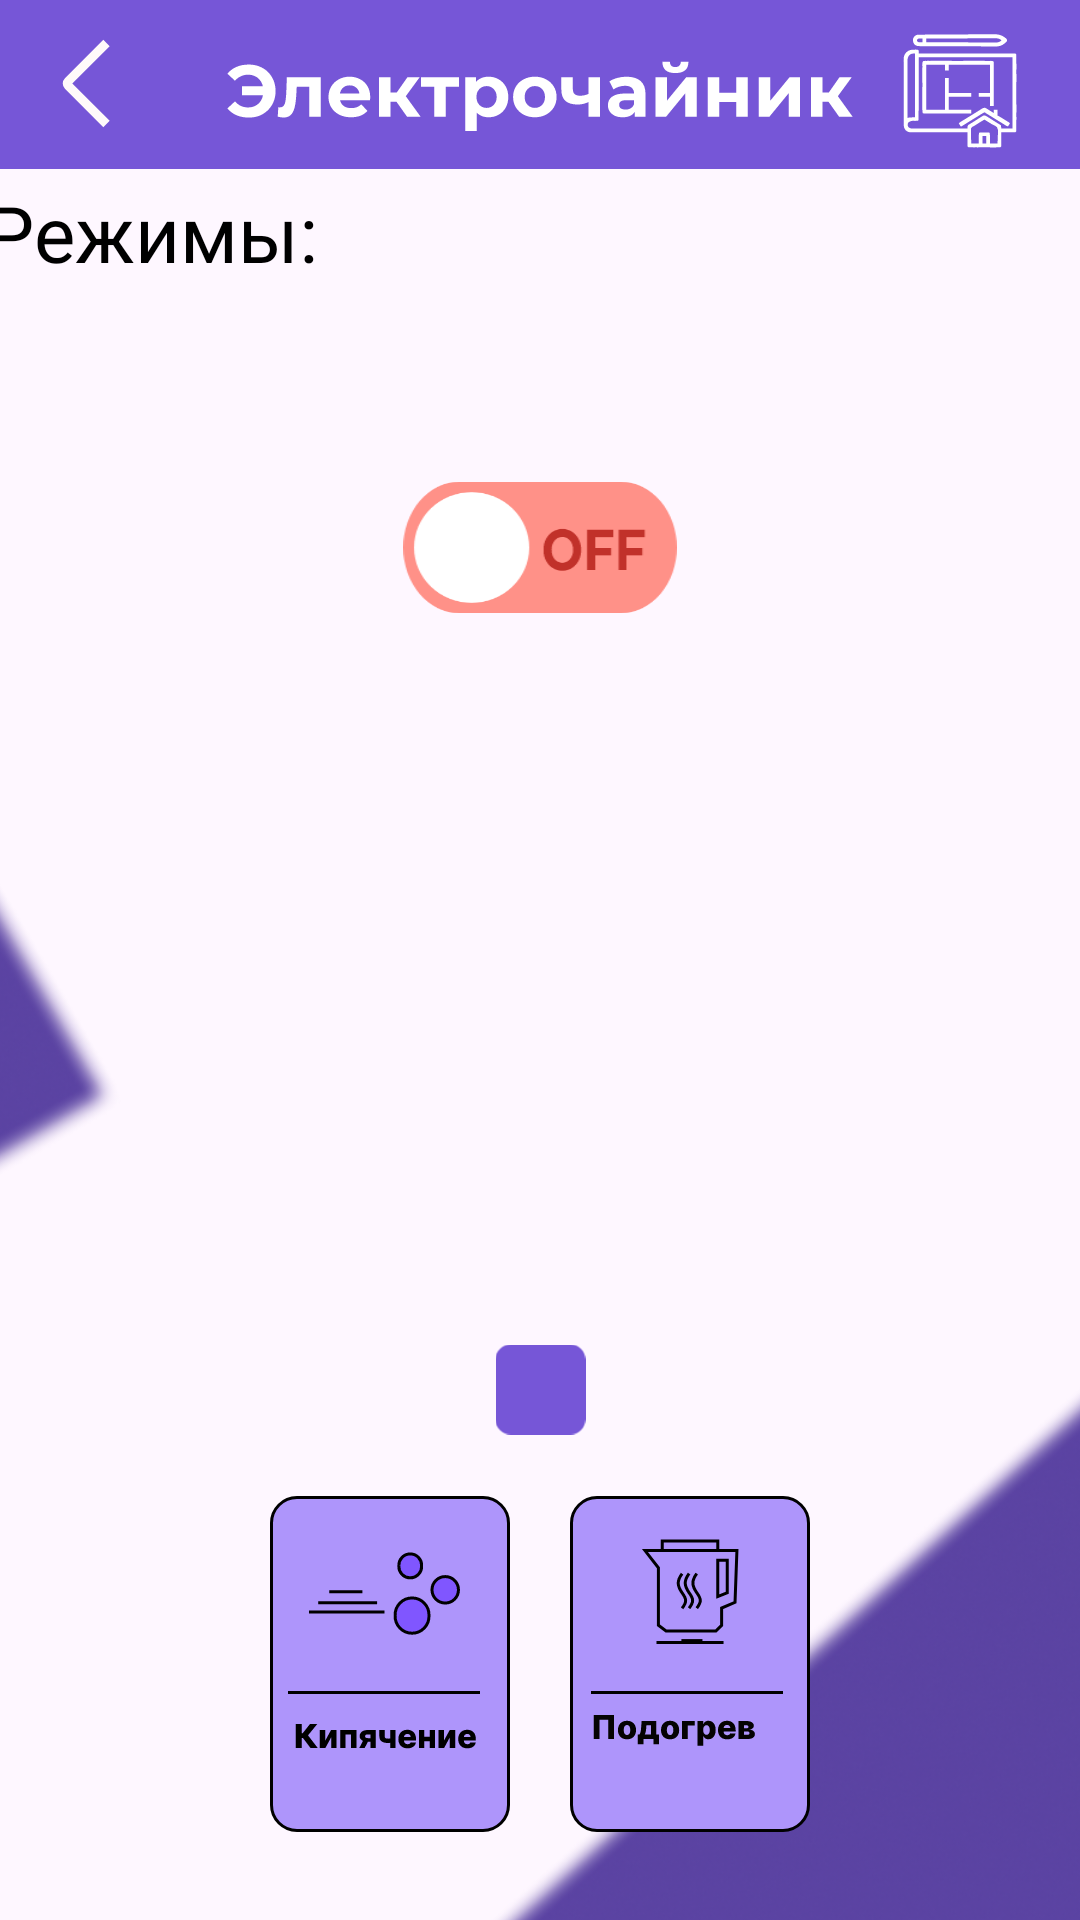

Named icons in this screenshot (1080x1920) and their bounding boxes, detection(x1, y1, x2, y2):
deviceback: detection(62, 40, 110, 127)
